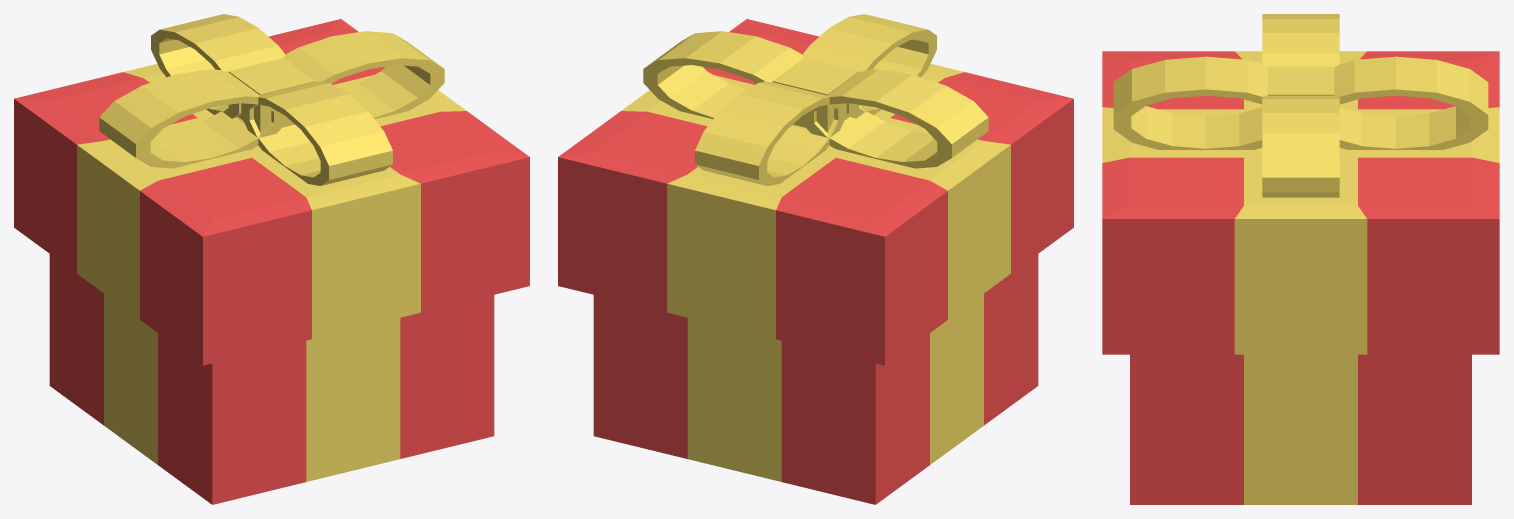
Rendered from Present003.fbx.
3 views of the same model, side by side, from view 1: azimuth 30°, elevation 25°; view 2: azimuth 150°, elevation 25°; view 3: azimuth 270°, elevation 25° (orthographic). The views are drawn at different scales.
Visible parts, largest first — view 1: Present003; view 2: Present003; view 3: Present003.
Boxes of the visible parts, <box> form: Present003: <box>14,14,529,504</box>; Present003: <box>558,14,1073,504</box>; Present003: <box>1102,14,1499,504</box>.
Bounding box in the file's own units: 83.71 × 83.67 × 83.71.
